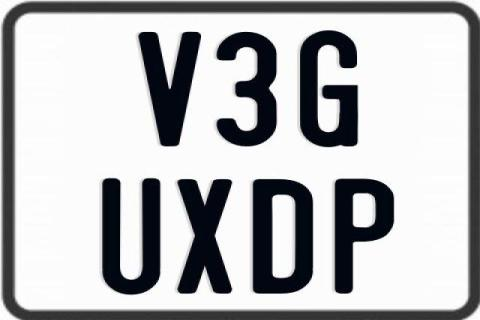0: (215, 31, 279, 149)
D: (250, 177, 315, 295)
G: (297, 30, 361, 152)
P: (333, 176, 397, 294)
U: (100, 176, 159, 293)
V: (137, 32, 202, 150)
X: (177, 178, 234, 298)
